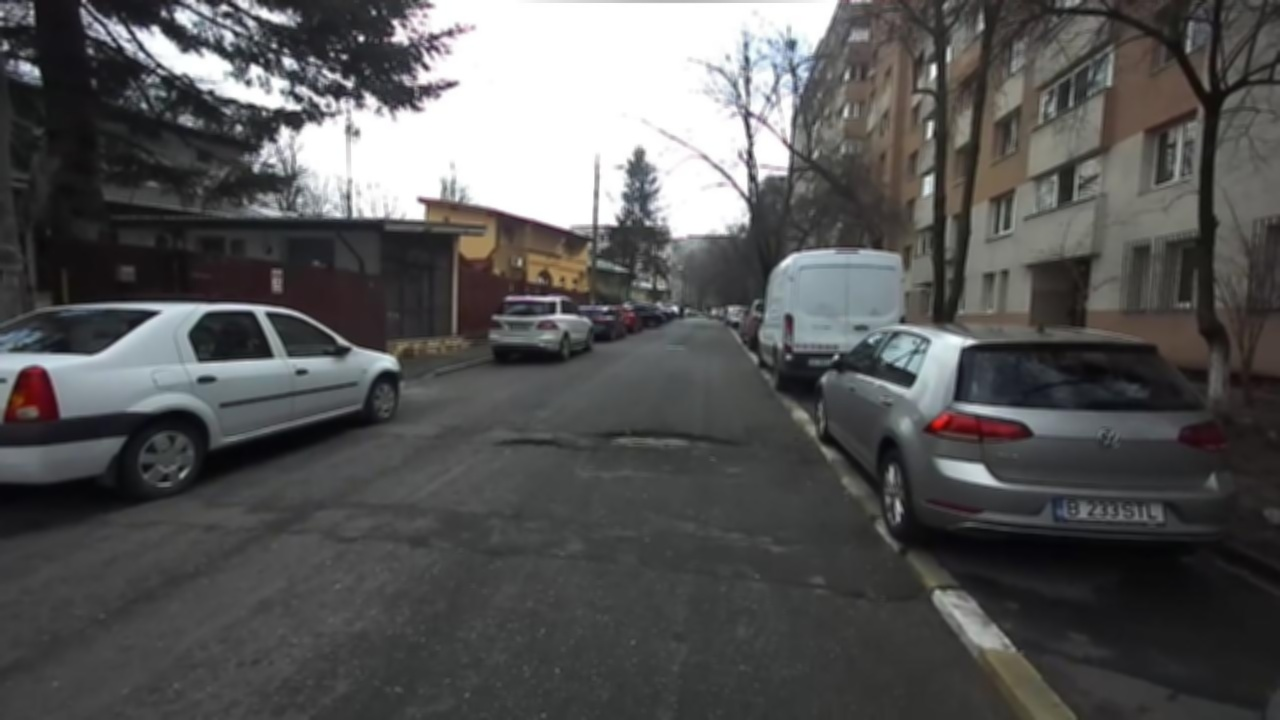pothole: (585, 423, 744, 454), (802, 577, 914, 608), (490, 433, 573, 449)
